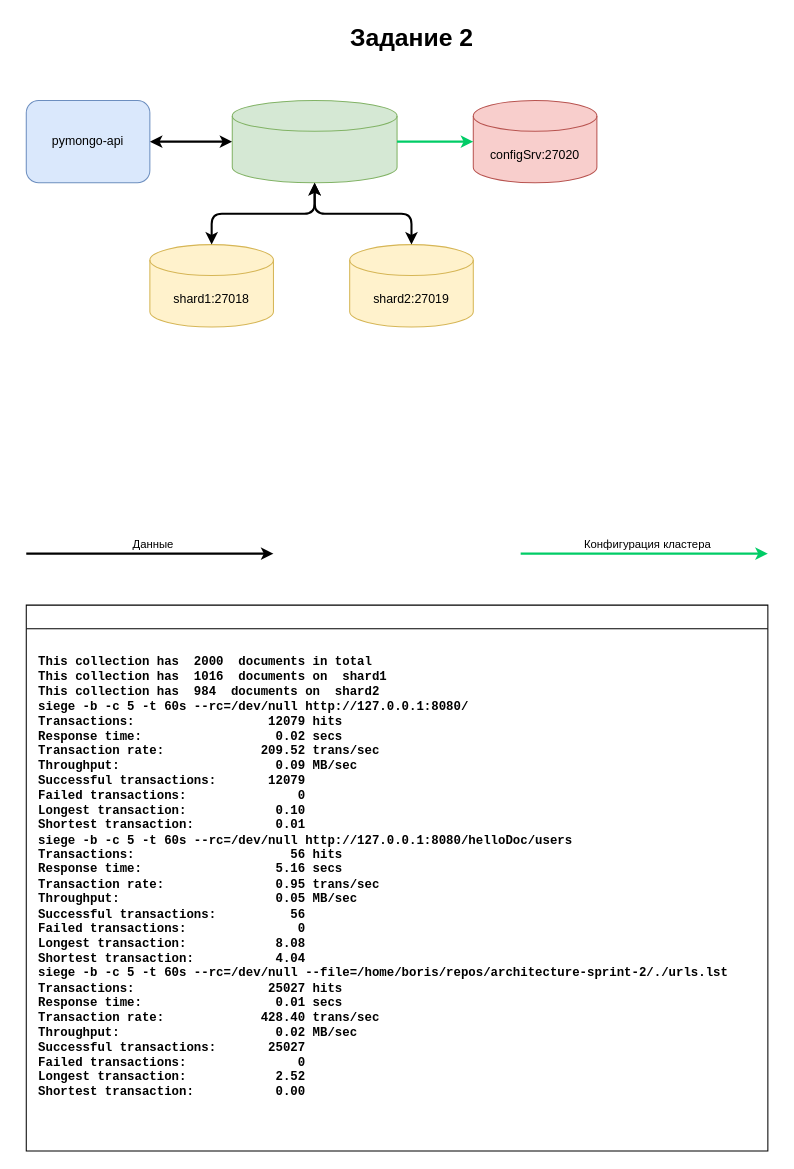
Image size: 794x1169. Some labels were removed from this diagram. The box of each missing label's shape, as (x1, y1, x2, y2) in pixels:
mongos_router:27017: (231, 99, 397, 183)
Результаты нагрузочного тестирования: (25, 604, 768, 1151)
